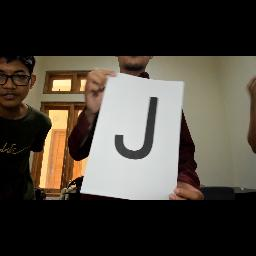j: (112, 94, 160, 168)
